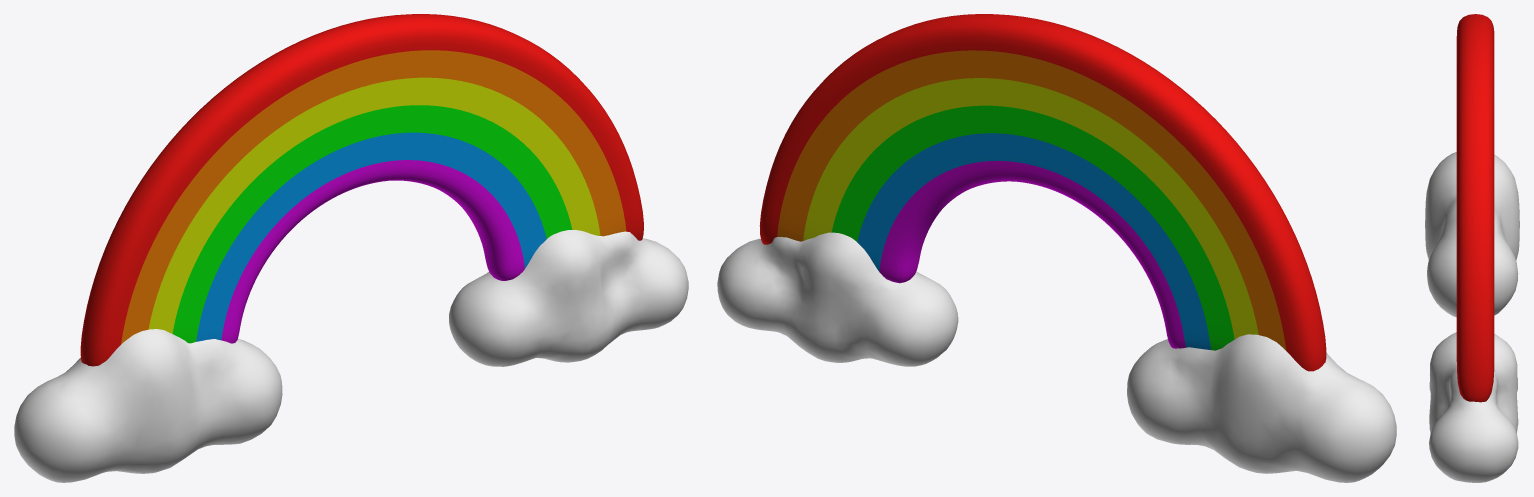
The model's file is rainbow.glb.
The picture shows the model from 3 angles, left to right: view 1: azimuth 30°, elevation 25°; view 2: azimuth 150°, elevation 25°; view 3: azimuth 270°, elevation 25°; orthographic projection. The views are drawn at different scales.
Visible parts, largest first — view 1: Regenbogen, Wolke 01, Wolke 02; view 2: Regenbogen, Wolke 01, Wolke 02; view 3: Regenbogen, Wolke 02, Wolke 01.
Part boxes in pixels (x1=…): Regenbogen: x1=80, y1=14, x2=643, y2=366; Wolke 01: x1=14, y1=329, x2=282, y2=482; Wolke 02: x1=449, y1=230, x2=688, y2=366; Regenbogen: x1=759, y1=14, x2=1326, y2=371; Wolke 01: x1=1127, y1=334, x2=1396, y2=482; Wolke 02: x1=717, y1=232, x2=958, y2=366; Regenbogen: x1=1456, y1=14, x2=1494, y2=402; Wolke 02: x1=1429, y1=332, x2=1518, y2=482; Wolke 01: x1=1425, y1=152, x2=1519, y2=317.
Bounding box in the file's own units: 11.69 × 6.61 × 1.67.
